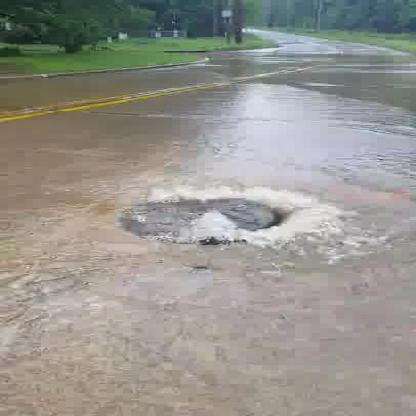drainage overflow-repair-: (128, 188, 290, 277)
